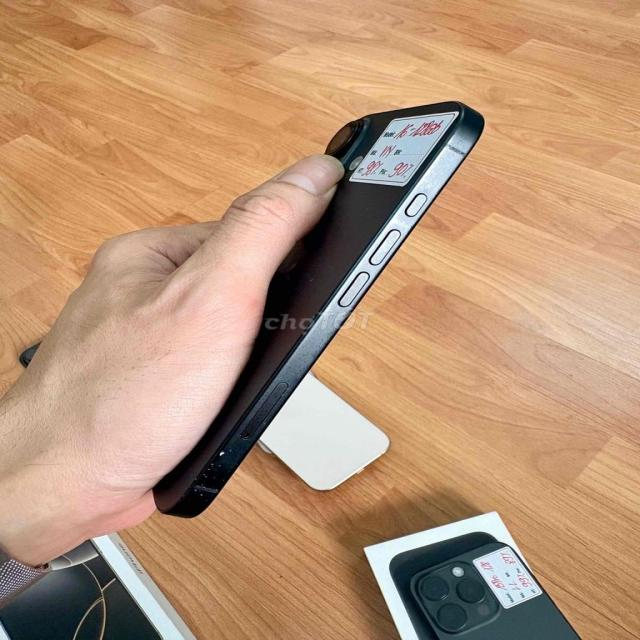scratch: (173, 443, 263, 518), (291, 304, 350, 381), (305, 269, 329, 286), (356, 201, 384, 211)
